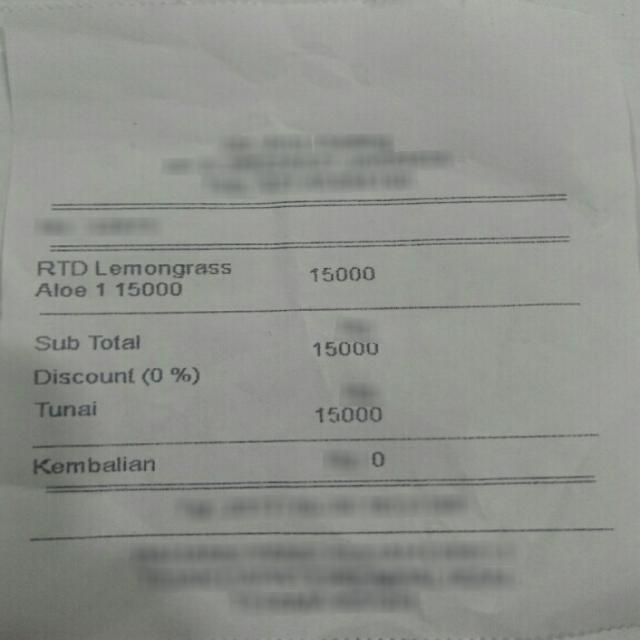text: (94, 258, 228, 277), (29, 454, 153, 474), (23, 368, 132, 384), (315, 404, 379, 421), (114, 280, 178, 296), (308, 265, 371, 280), (312, 340, 375, 354), (30, 401, 93, 414), (86, 332, 137, 348), (37, 259, 85, 274), (33, 332, 76, 348), (34, 282, 84, 295), (170, 366, 198, 384), (140, 366, 160, 384), (368, 448, 383, 467), (94, 280, 102, 294)
